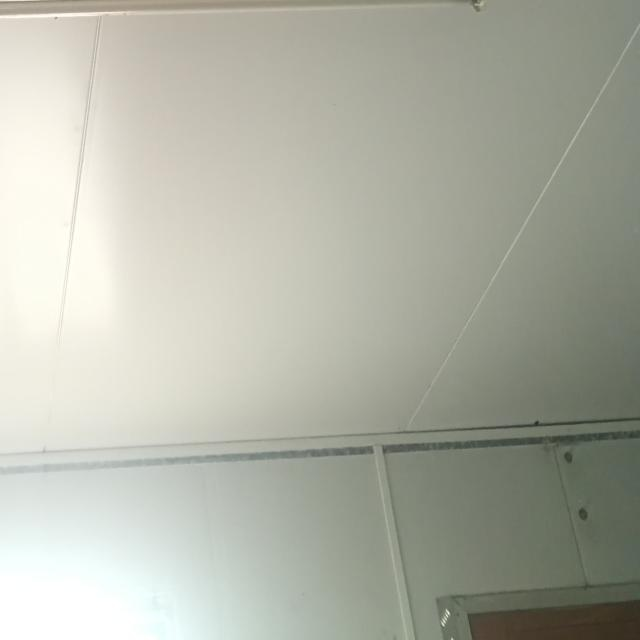fluorescent tube: (0, 0, 513, 61)
